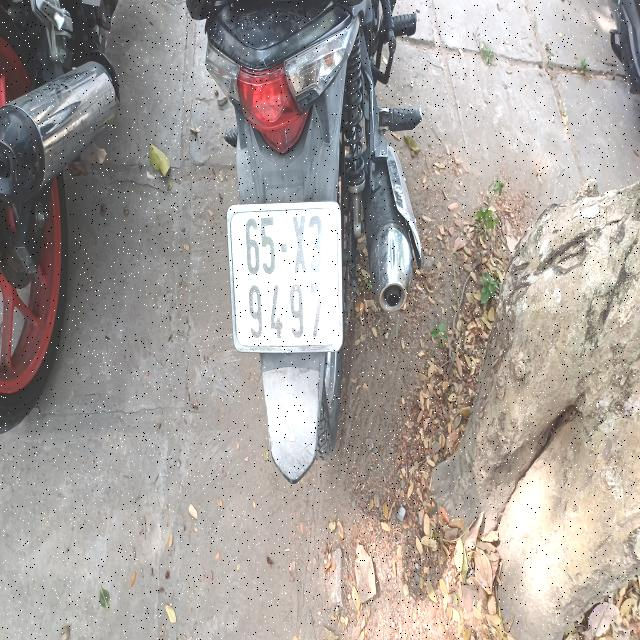3: (309, 216, 323, 274)
4: (271, 284, 284, 344)
5: (260, 216, 278, 274)
6: (245, 218, 260, 276)
7: (310, 282, 324, 338)
9: (288, 283, 306, 339), (248, 284, 263, 339)
X: (292, 216, 308, 276)
